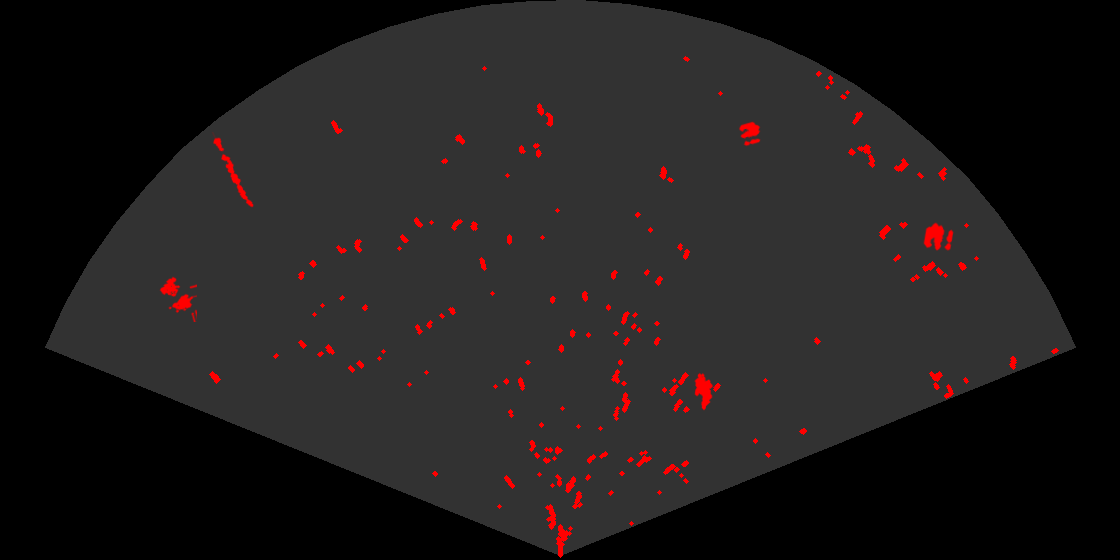AUV: (693, 371, 715, 412)
ball: (922, 221, 955, 252), (737, 120, 762, 148)
cage: (158, 275, 197, 322)
chain: (210, 132, 255, 209)
